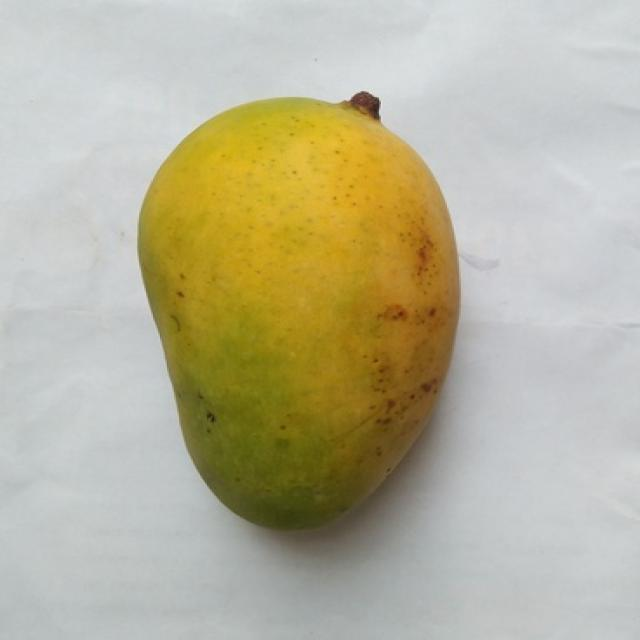Mango: (139, 93, 457, 527)
